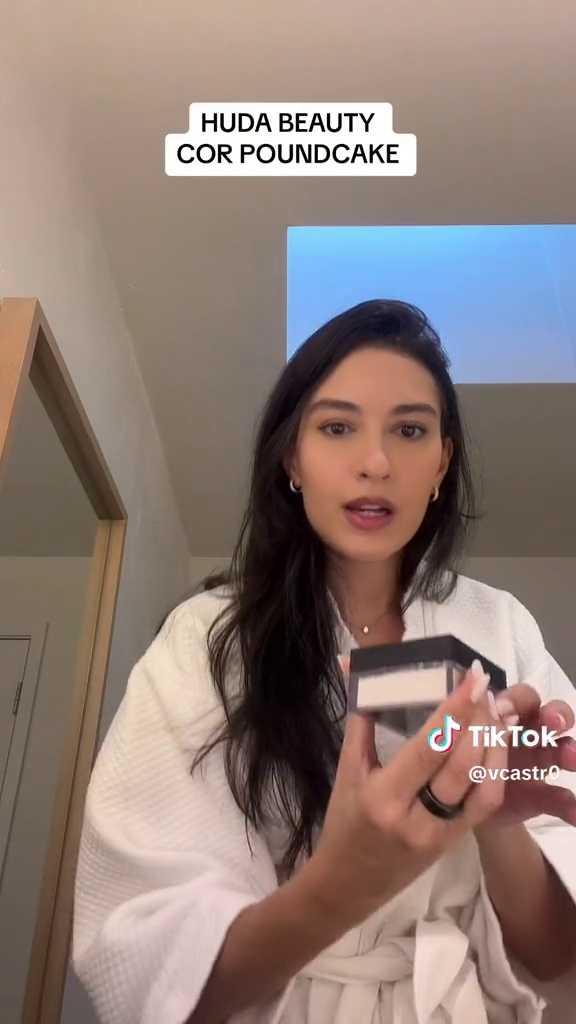train' :'yolo_data/train/images',: (339, 620, 519, 734)
